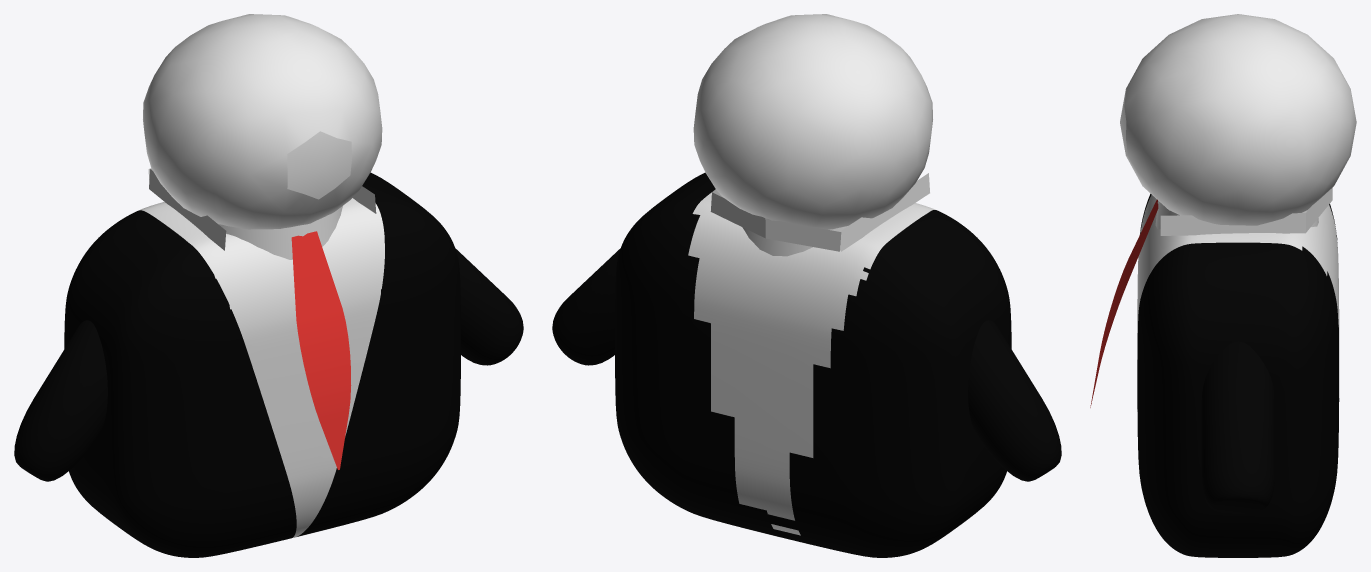
Rendered from Bureaucrat.fbx.
3 renders of one model, left to right at view 1: azimuth 30°, elevation 25°; view 2: azimuth 150°, elevation 25°; view 3: azimuth 270°, elevation 25°, orthographic.
Visible parts, largest first — view 1: Cube; view 2: Cube; view 3: Cube.
Part boxes in pixels (x1=…): Cube: x1=14, y1=14, x2=523, y2=557; Cube: x1=552, y1=14, x2=1061, y2=557; Cube: x1=1090, y1=14, x2=1356, y2=557.
Bounding box in the file's own units: 1686 × 1597 × 792.
